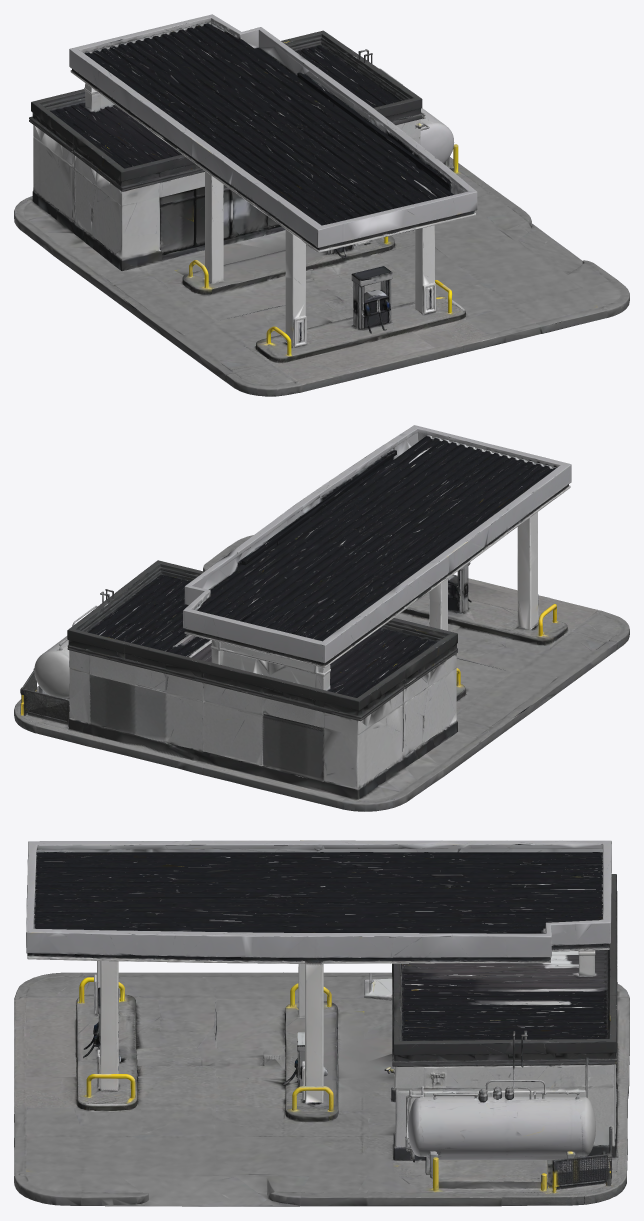
The model's file is spbu-hq.glb.
3 views of the same model, one above another, from view 1: azimuth 30°, elevation 25°; view 2: azimuth 150°, elevation 25°; view 3: azimuth 270°, elevation 25° (orthographic). The views are drawn at different scales.
Size of the model in its own units: 1.65 by 0.6145 by 1.9.
1 material, 1 textured.
